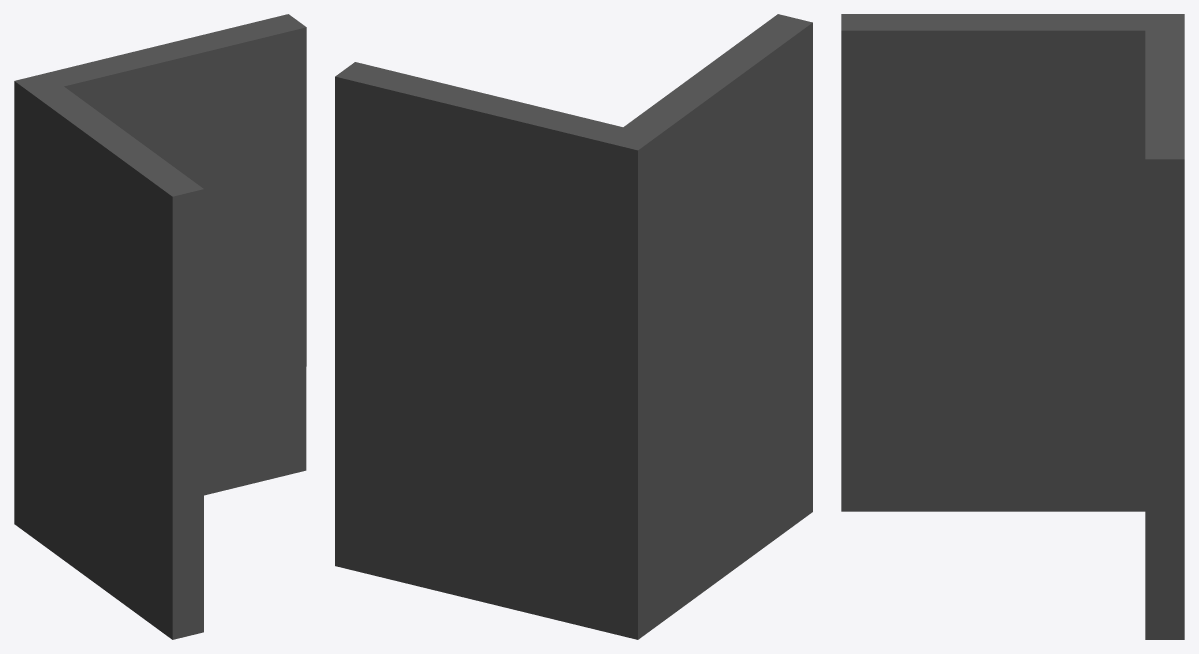
Rendered from Itr_Desk_Back2_04.FBX.
3 renders of one model, left to right at view 1: azimuth 30°, elevation 25°; view 2: azimuth 150°, elevation 25°; view 3: azimuth 270°, elevation 25°, orthographic. The views are drawn at different scales.
Parts seen in each view (by area): view 1: Itr_Desk_Back2_04; view 2: Itr_Desk_Back2_04; view 3: Itr_Desk_Back2_04.
Part boxes in pixels (box(x1,y1,x2,y2)): Itr_Desk_Back2_04: box(14, 14, 306, 639); Itr_Desk_Back2_04: box(335, 14, 812, 639); Itr_Desk_Back2_04: box(841, 14, 1184, 639).
Bounding box in the file's own units: 17.79 × 27.48 × 17.79.
